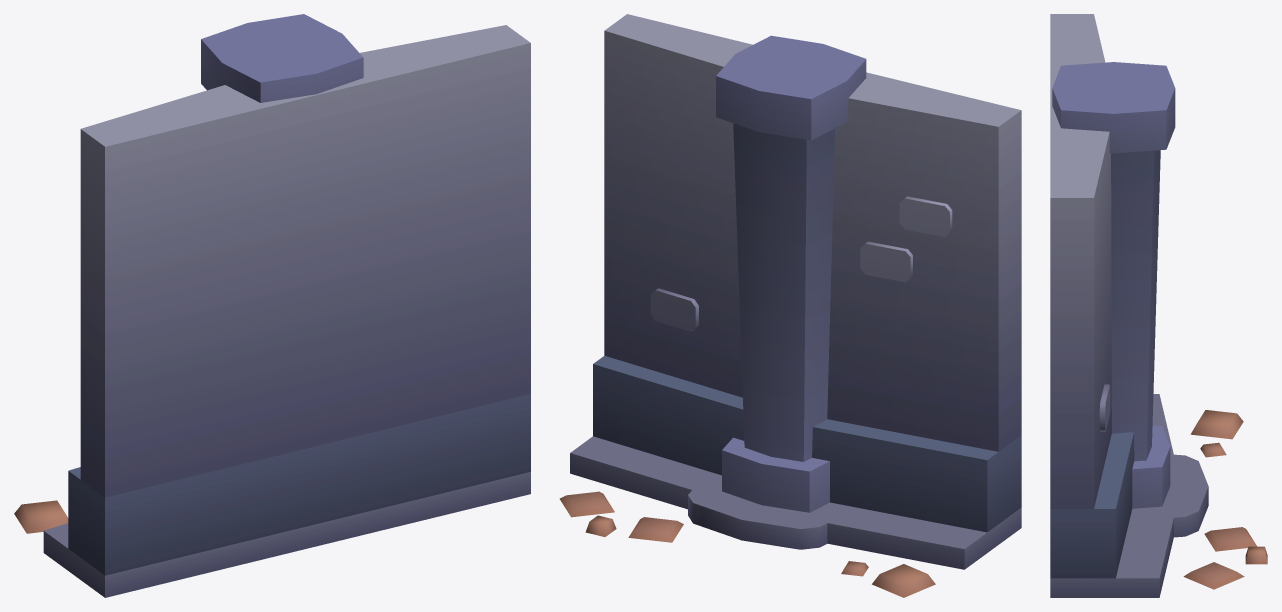
The model's file is template-wall-detail-a.glb.
The picture shows the model from 3 angles, left to right: view 1: azimuth 30°, elevation 25°; view 2: azimuth 150°, elevation 25°; view 3: azimuth 270°, elevation 25°; orthographic projection. The views are drawn at different scales.
Parts seen in each view (by area): view 1: template-wall-detail-a4; view 2: template-wall-detail-a4; view 3: template-wall-detail-a4.
Part boxes in pixels (<box>): template-wall-detail-a4: <box>14,14,530,597</box>; template-wall-detail-a4: <box>559,14,1021,597</box>; template-wall-detail-a4: <box>1050,14,1267,597</box>.
Bounding box in the file's own units: 4 × 4.23 × 1.99.
1 material, 1 textured.
